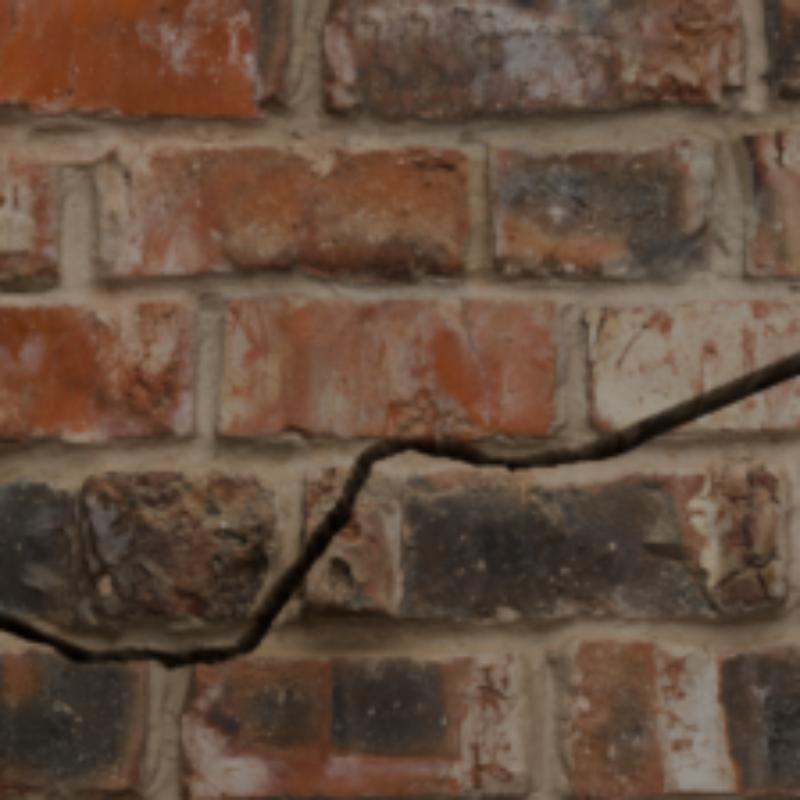crack: (0, 354, 796, 668)
